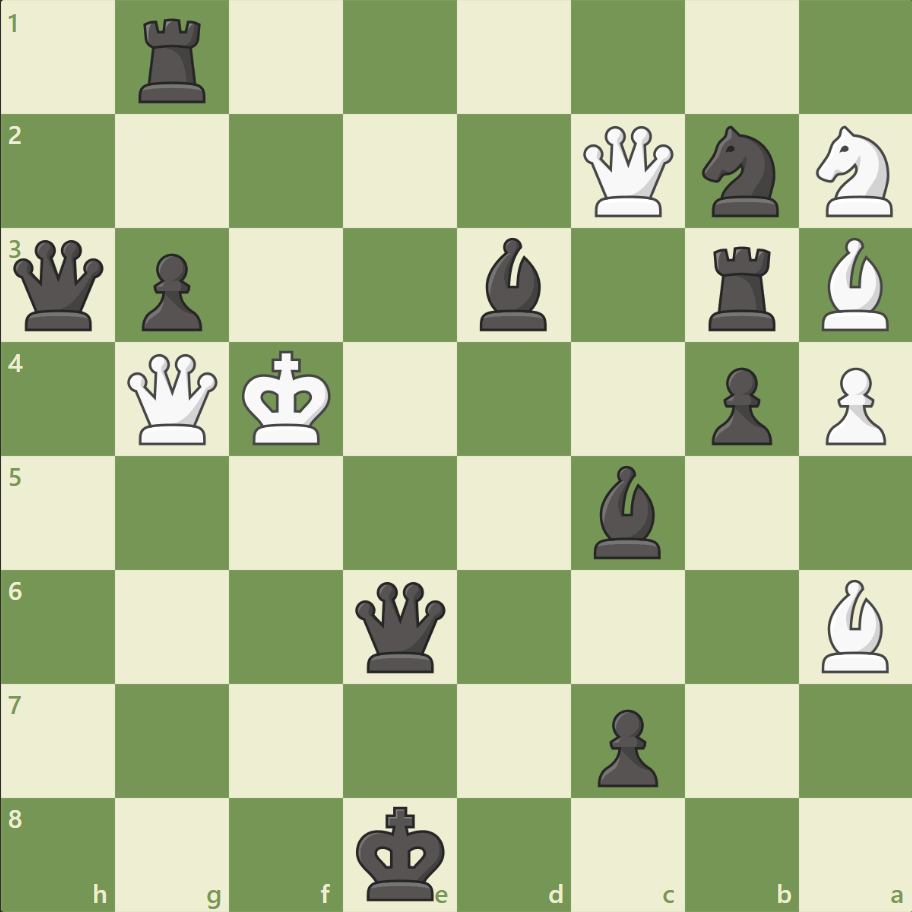B: (812, 233, 896, 336), (812, 574, 896, 676)
K: (238, 344, 338, 452)
N: (806, 121, 903, 223)
P: (815, 359, 889, 450)
Q: (124, 349, 223, 449), (578, 122, 677, 222)
b: (585, 460, 669, 563), (471, 233, 555, 336)
k: (351, 798, 451, 906)
n: (692, 121, 789, 223)
p: (701, 359, 776, 450), (133, 246, 208, 337), (588, 700, 662, 791)
q: (351, 576, 450, 676), (10, 236, 109, 335)
r: (700, 239, 783, 336), (133, 12, 215, 109)
